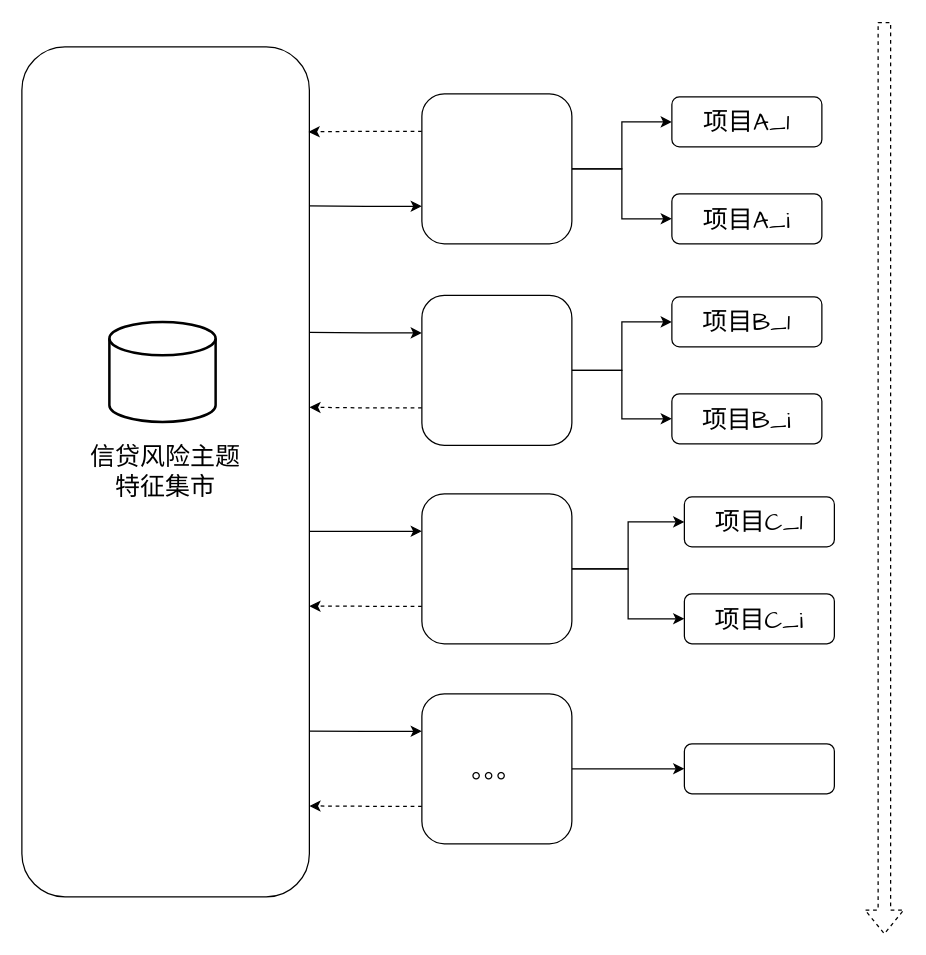
Some shapes in this 926 by 955 pixel diagram are drawn without their labels. The shapes that lost their labels are listed below. From the top down, each one's centre as x and y in pixels, then its label:
At [496,168]: "A公司".
At [496,369]: "B公司".
At [496,568]: "C公司".
At [758,768]: "项目 i".
